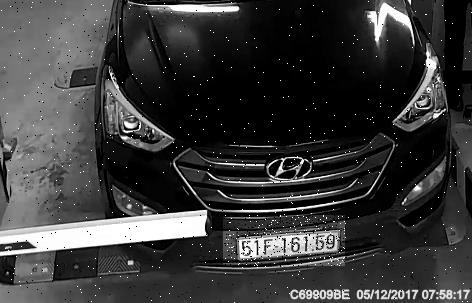License-plate: (225, 216, 348, 267)
